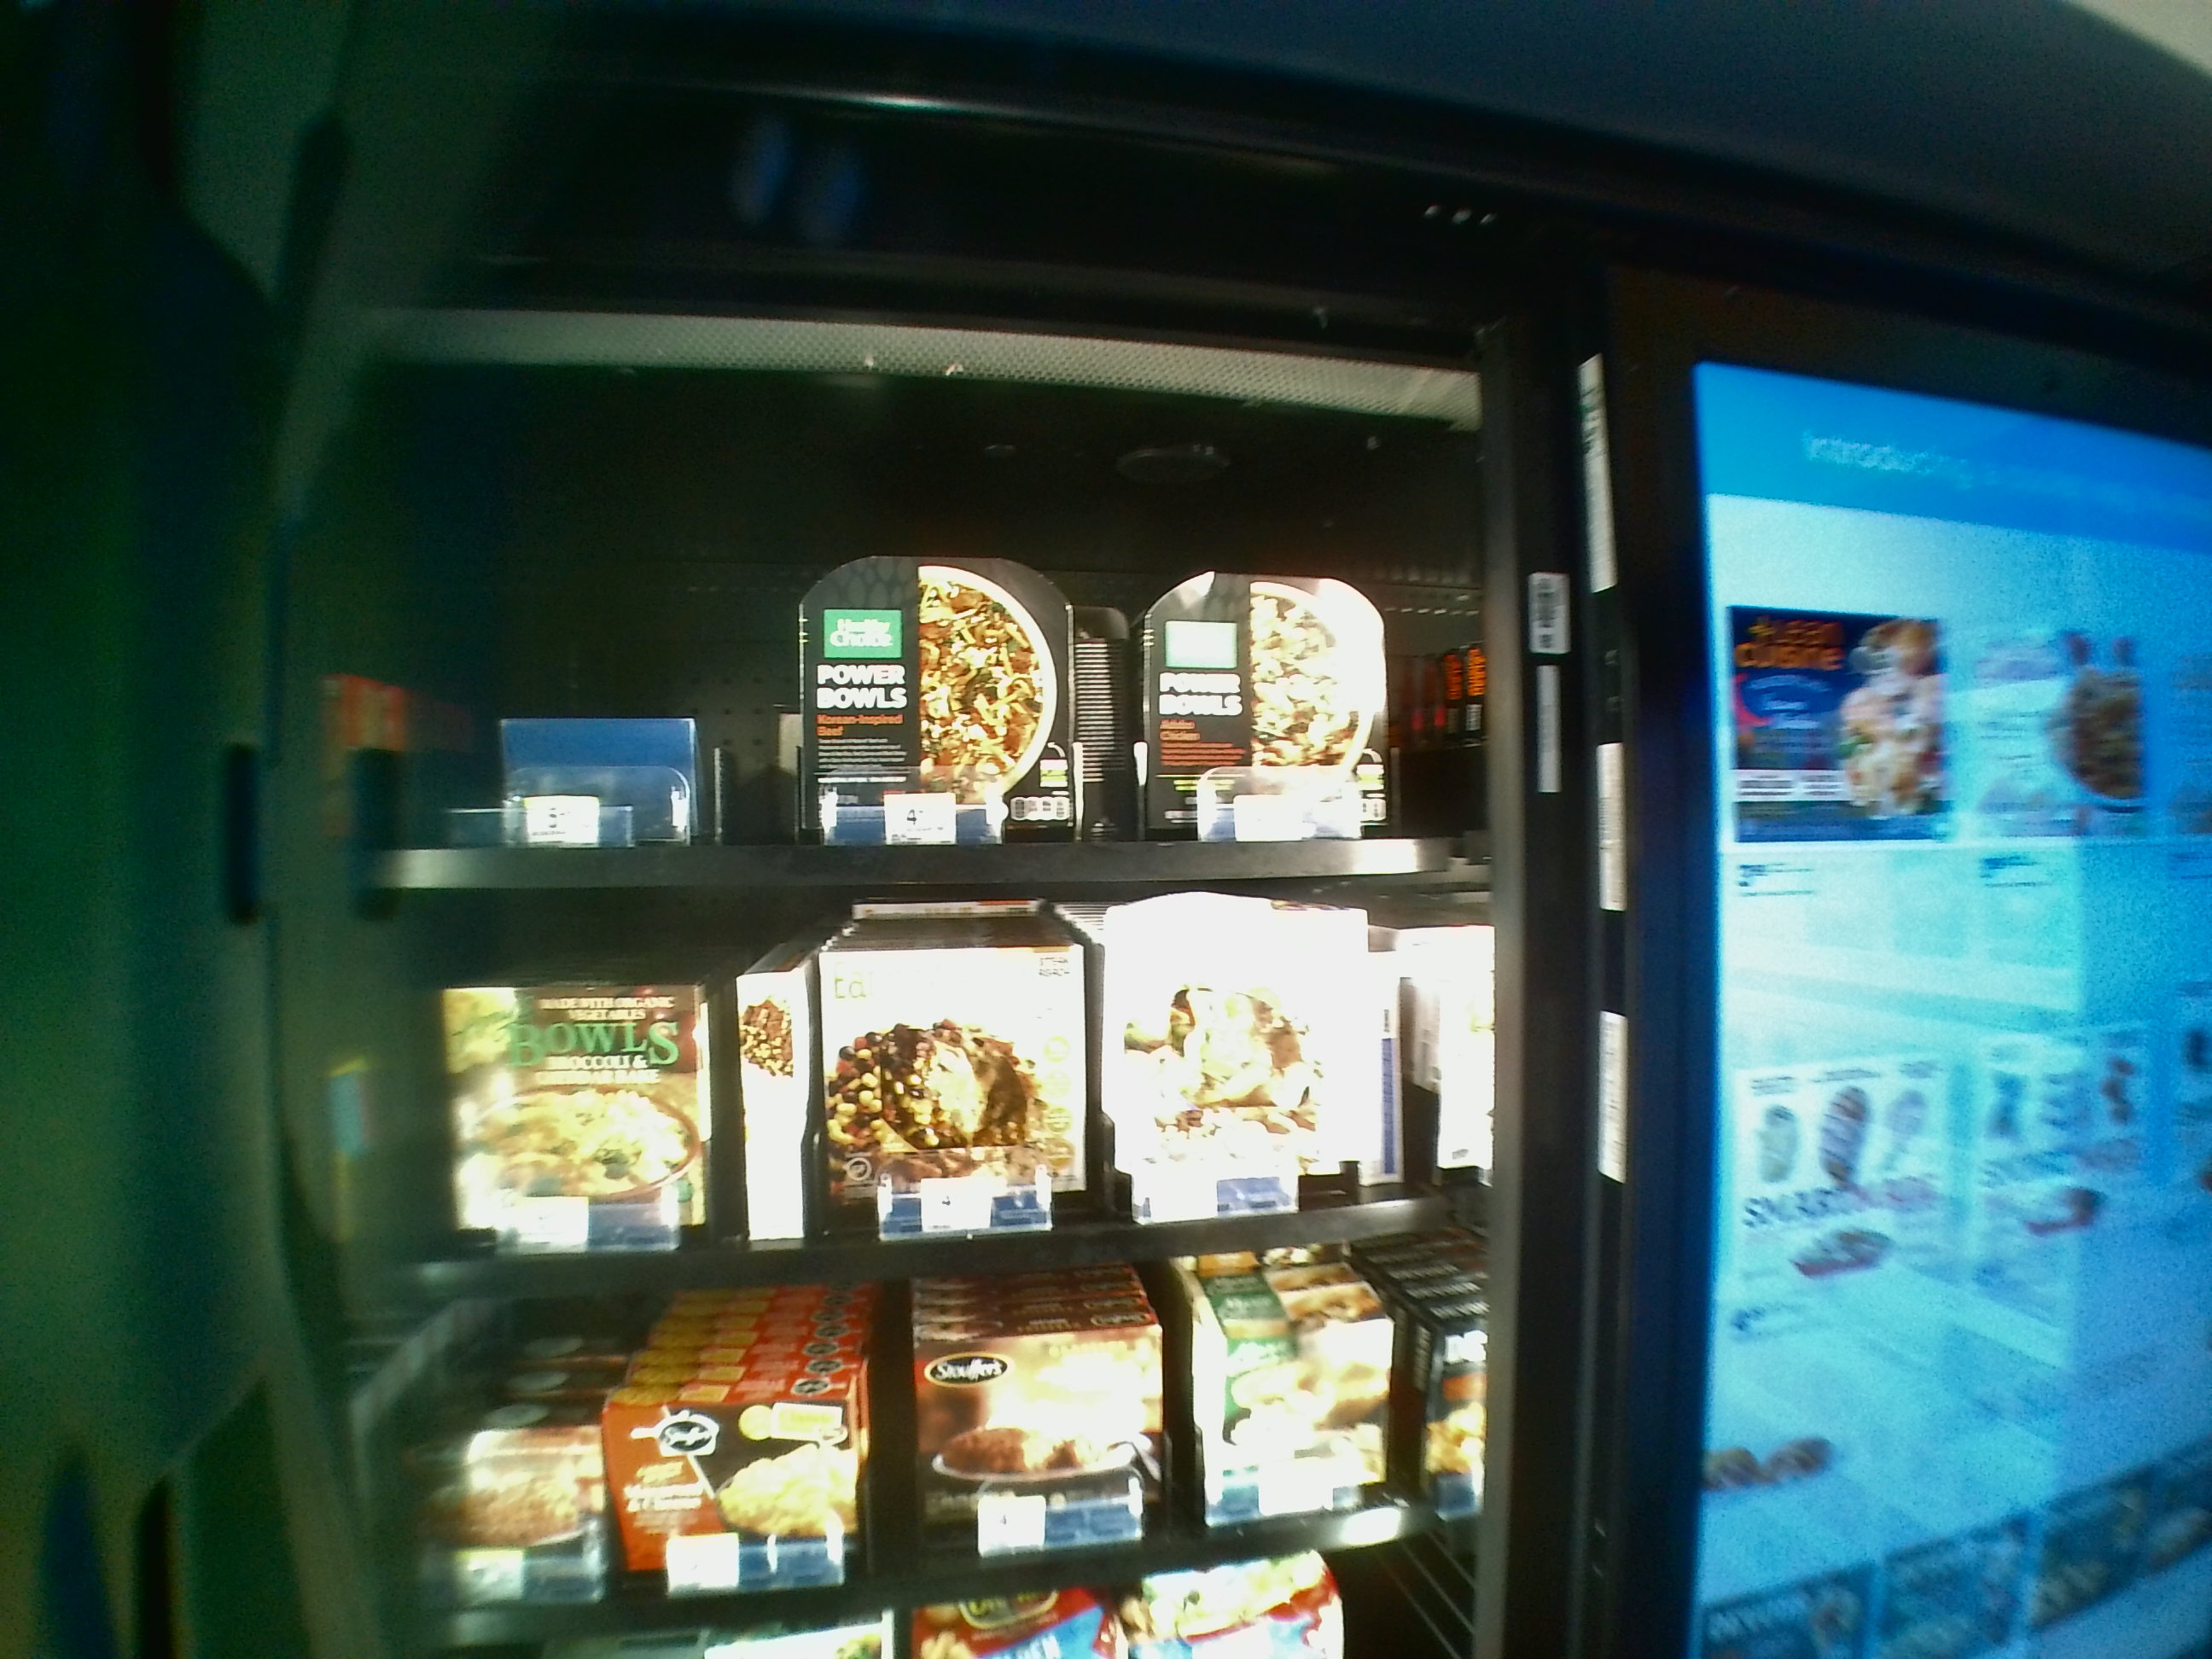shelf: (364, 415, 1474, 884), (371, 897, 1484, 1293)
